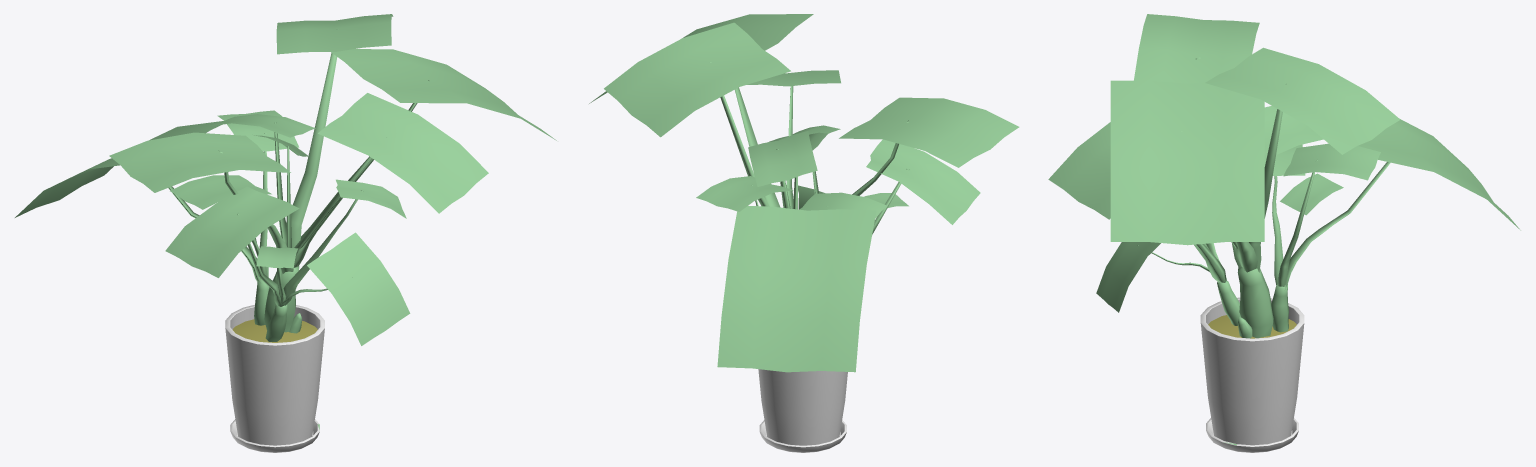
The model's file is Plant06.FBX.
The picture shows the model from 3 angles, left to right: view 1: azimuth 30°, elevation 25°; view 2: azimuth 150°, elevation 25°; view 3: azimuth 270°, elevation 25°; orthographic projection. The views are drawn at different scales.
Visible parts, largest first — view 1: Plant06; view 2: Plant06; view 3: Plant06.
Part boxes in pixels (bbox=[...]): Plant06: bbox=[15, 14, 556, 452]; Plant06: bbox=[589, 14, 1019, 452]; Plant06: bbox=[1048, 14, 1520, 452].
Size of the model in its own units: 96.77 by 98.65 by 91.89.
